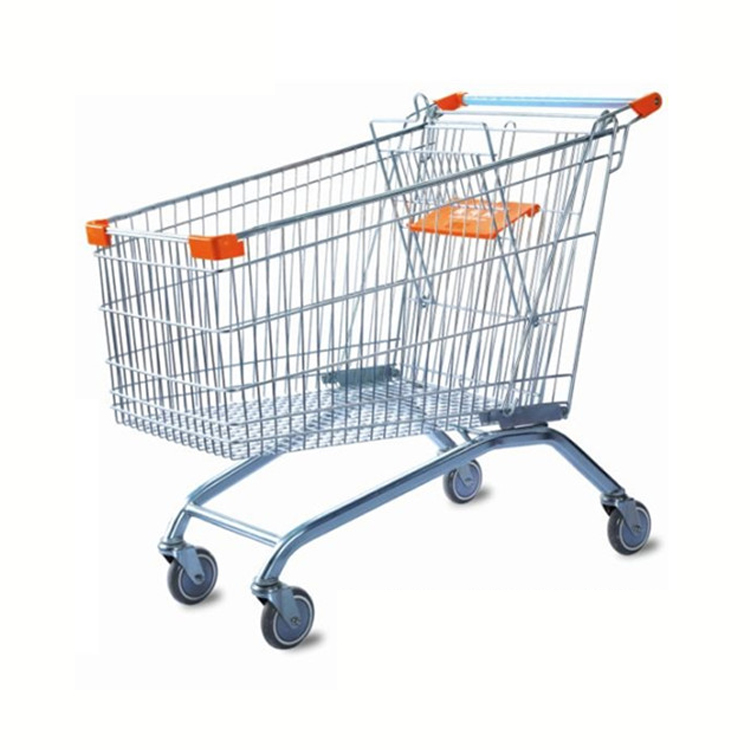with_basket: (86, 90, 702, 646)
